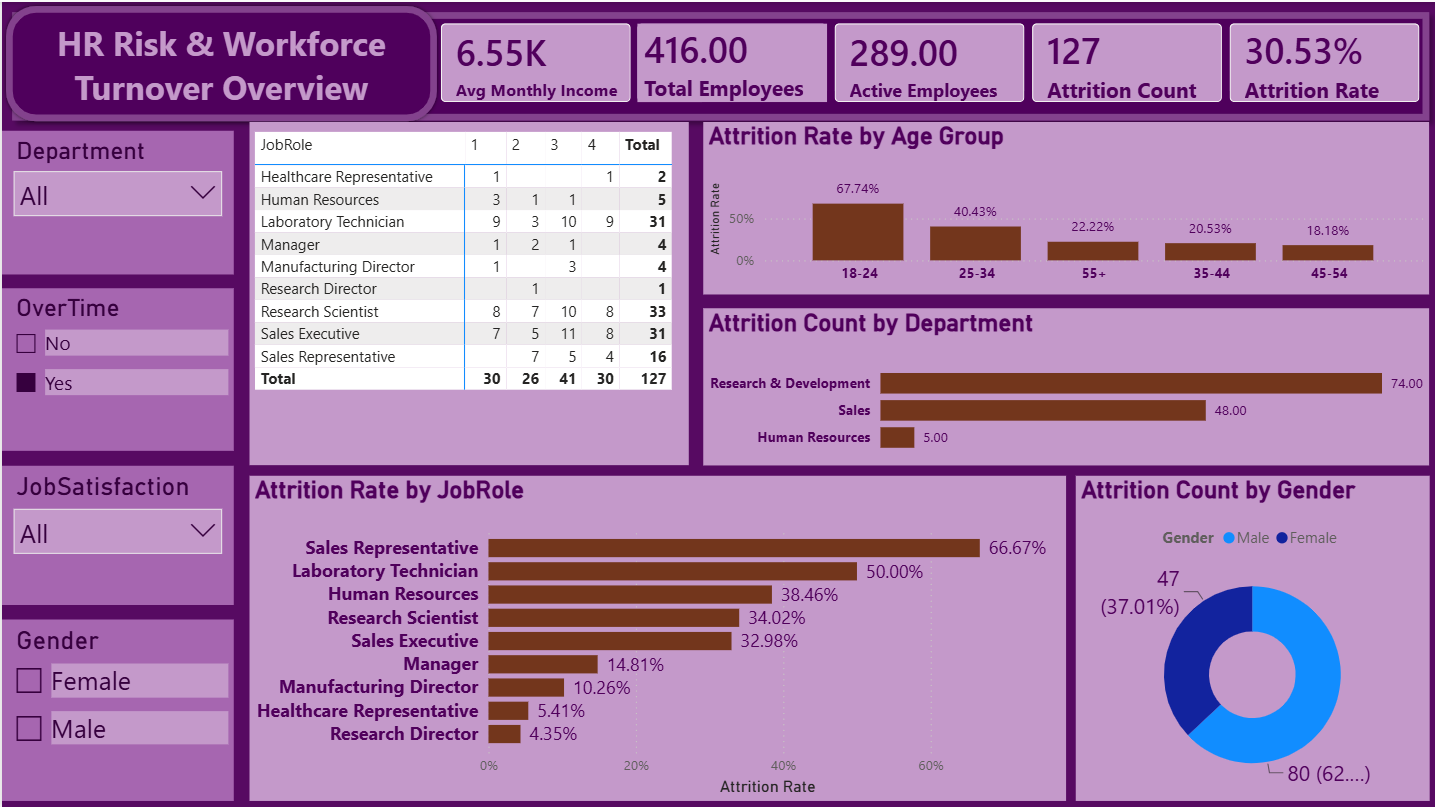

This screenshot's page, from the dashboard's own definition file:
{"tool":"powerbi","page":{"name":"HR Analytics Dashboard","canvas":[1280,720],"ordinal":0},"visuals":[{"type":"shape","box":[0,0,1280,114.6],"z":0},{"type":"cardVisual","fields":{"Data":["HR-Employee-Attrition.Total Employees"]},"box":[549.2,2.1,203.9,105],"z":1000},{"type":"shape","box":[0,0,390.9,109.8],"z":2000},{"type":"cardVisual","fields":{"Data":["HR-Employee-Attrition.Active Employees"]},"box":[724.8,2.1,203.9,105],"z":3000},{"type":"cardVisual","fields":{"Data":["HR-Employee-Attrition.Attrition Count"]},"box":[900.5,2.1,203.9,105],"z":4000},{"type":"cardVisual","fields":{"Data":["HR-Employee-Attrition.Attrition Rate"]},"box":[1076.1,2.1,203.9,105],"z":5000},{"type":"cardVisual","fields":{"Data":["HR-Employee-Attrition.Avg Monthly Income"]},"box":[373.5,2.1,203.9,105],"z":6000},{"type":"clusteredBarChart","fields":{"Y":["HR-Employee-Attrition.Attrition Count"],"Category":["HR-Employee-Attrition.Department"]},"box":[624.9,272.7,646.7,139.9],"z":7000},{"type":"barChart","fields":{"Category":["HR-Employee-Attrition.JobRole"],"Y":["HR-Employee-Attrition.Attrition Rate"]},"box":[220.8,422.3,727.5,289.5],"z":8000},{"type":"donutChart","fields":{"Y":["HR-Employee-Attrition.Attrition Count"],"Category":["HR-Employee-Attrition.Gender"]},"box":[956.7,422.3,314.9,289.5],"z":9000},{"type":"lineStackedColumnComboChart","fields":{"Y":["HR-Employee-Attrition.Attrition Rate"],"Category":["HR-Employee-Attrition.Age Group"]},"box":[624.9,107.4,646.7,153.2],"z":10000},{"type":"pivotTable","fields":{"Rows":["HR-Employee-Attrition.JobRole"],"Columns":["HR-Employee-Attrition.JobSatisfaction"],"Values":["HR-Employee-Attrition.Attrition Count"]},"box":[220.8,107.4,390.9,305.2],"z":11000},{"type":"slicer","fields":{"Values":["HR-Employee-Attrition.Department"]},"box":[0,114.6,206.3,127.9],"z":12000},{"type":"slicer","fields":{"Values":["HR-Employee-Attrition.OverTime"]},"box":[0,254.6,206.3,144.8],"z":13000},{"type":"slicer","fields":{"Values":["HR-Employee-Attrition.Gender"]},"box":[0,550.1,206.3,161.7],"z":14000},{"type":"slicer","fields":{"Values":["HR-Employee-Attrition.JobSatisfaction"]},"box":[0,412.6,206.3,124.3],"z":15000}]}

Visuals, with their boxes in screenshot pixels (x1, y1, x2, y2), scaled from the page's 1280x720 canvas onto the 1435x807 screenshot:
shape: pyautogui.locateOnScreen(0, 0, 1434, 128)
cardVisual - HR-Employee-Attrition.Total Employees: pyautogui.locateOnScreen(616, 2, 844, 120)
shape: pyautogui.locateOnScreen(0, 0, 438, 123)
cardVisual - HR-Employee-Attrition.Active Employees: pyautogui.locateOnScreen(813, 2, 1041, 120)
cardVisual - HR-Employee-Attrition.Attrition Count: pyautogui.locateOnScreen(1010, 2, 1238, 120)
cardVisual - HR-Employee-Attrition.Attrition Rate: pyautogui.locateOnScreen(1206, 2, 1434, 120)
cardVisual - HR-Employee-Attrition.Avg Monthly Income: pyautogui.locateOnScreen(419, 2, 647, 120)
clusteredBarChart - HR-Employee-Attrition.Attrition Count x HR-Employee-Attrition.Department: pyautogui.locateOnScreen(701, 306, 1426, 462)
barChart - HR-Employee-Attrition.JobRole x HR-Employee-Attrition.Attrition Rate: pyautogui.locateOnScreen(248, 473, 1063, 798)
donutChart - HR-Employee-Attrition.Attrition Count x HR-Employee-Attrition.Gender: pyautogui.locateOnScreen(1073, 473, 1426, 798)
lineStackedColumnComboChart - HR-Employee-Attrition.Attrition Rate x HR-Employee-Attrition.Age Group: pyautogui.locateOnScreen(701, 120, 1426, 292)
pivotTable - HR-Employee-Attrition.JobRole x HR-Employee-Attrition.JobSatisfaction: pyautogui.locateOnScreen(248, 120, 686, 462)
slicer - HR-Employee-Attrition.Department: pyautogui.locateOnScreen(0, 128, 231, 272)
slicer - HR-Employee-Attrition.OverTime: pyautogui.locateOnScreen(0, 285, 231, 448)
slicer - HR-Employee-Attrition.Gender: pyautogui.locateOnScreen(0, 617, 231, 798)
slicer - HR-Employee-Attrition.JobSatisfaction: pyautogui.locateOnScreen(0, 462, 231, 602)
